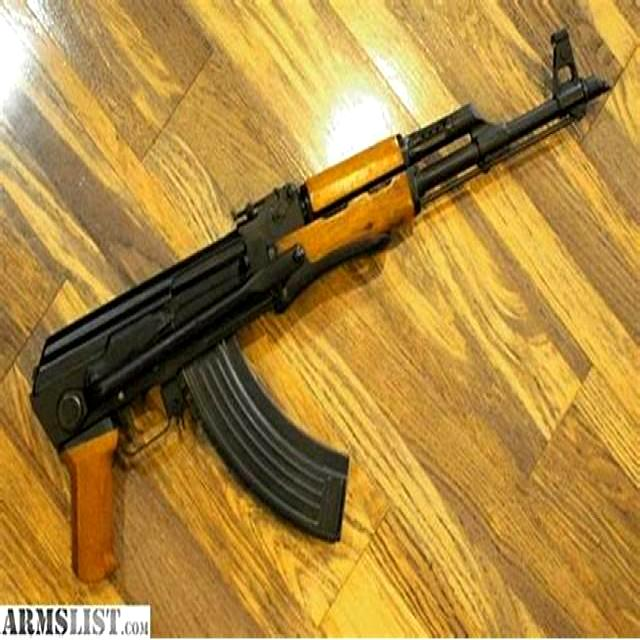ak: (28, 16, 622, 580)
